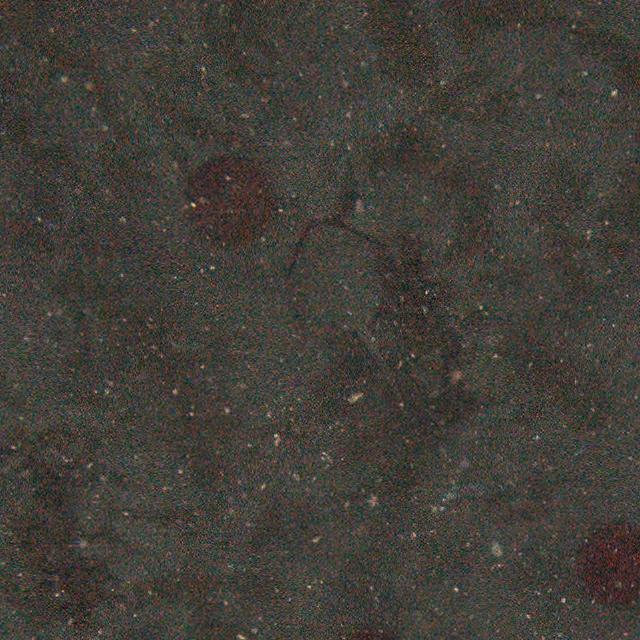skate: (266, 216, 437, 432)
